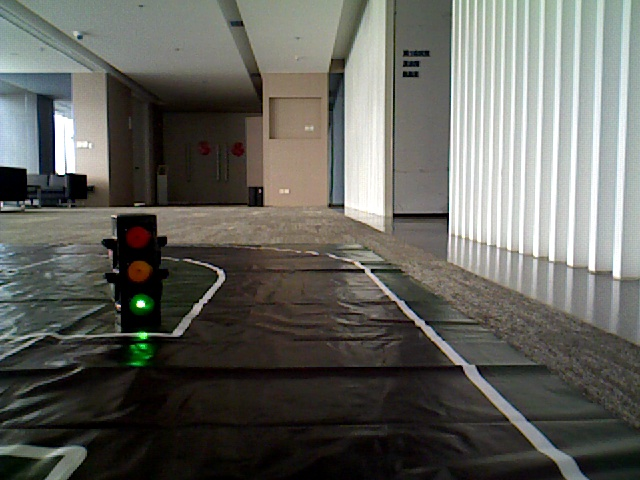green: (120, 217, 154, 312)
